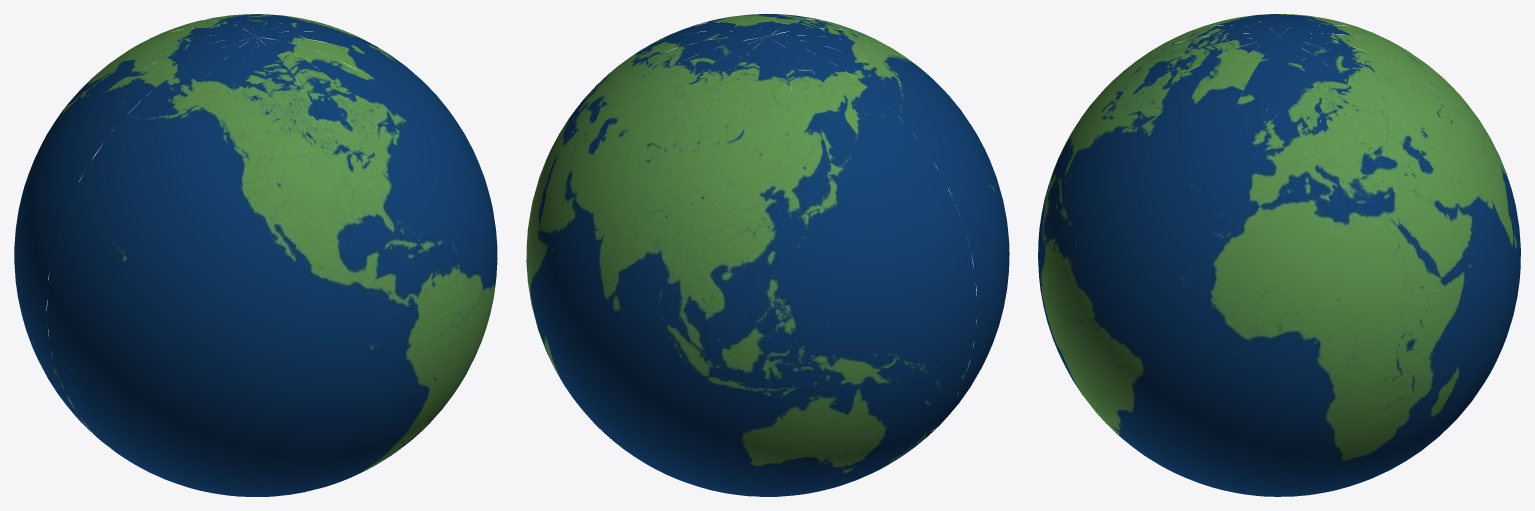
File: earth-mobile-webp.glb
The picture shows the model from 3 angles, left to right: view 1: azimuth 30°, elevation 25°; view 2: azimuth 150°, elevation 25°; view 3: azimuth 270°, elevation 25°; orthographic projection.
Visible parts, largest first — view 1: Earth_Optimized; view 2: Earth_Optimized; view 3: Earth_Optimized.
Part boxes in pixels (x1=…): Earth_Optimized: x1=14, y1=14, x2=497, y2=496; Earth_Optimized: x1=526, y1=14, x2=1009, y2=496; Earth_Optimized: x1=1038, y1=14, x2=1520, y2=496.
Size of the model in its own units: 2 by 2 by 2.
1 material, 1 textured.
